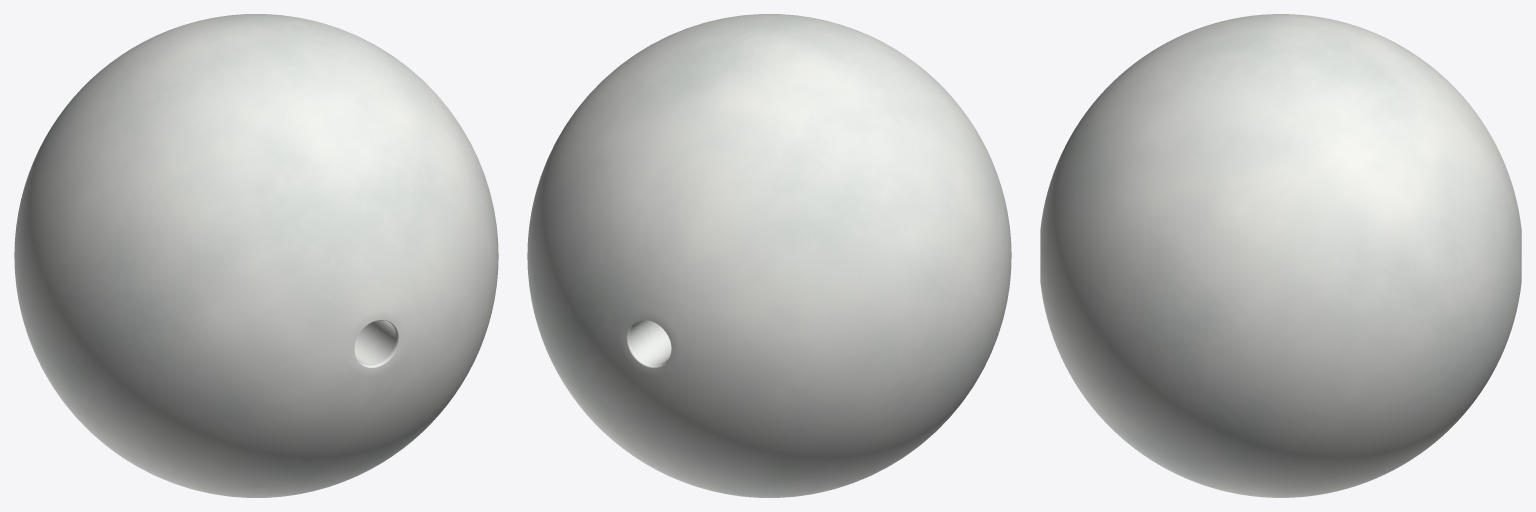
The model's file is milky-quartz-10mm.glb.
The picture shows the model from 3 angles, left to right: view 1: azimuth 30°, elevation 25°; view 2: azimuth 150°, elevation 25°; view 3: azimuth 270°, elevation 25°; orthographic projection.
Visible parts, largest first — view 1: milky-quartz.001; view 2: milky-quartz.001; view 3: milky-quartz.001.
Part boxes in pixels (x1,y1,x2,y2): milky-quartz.001: (14,14,498,497); milky-quartz.001: (527,14,1011,497); milky-quartz.001: (1040,14,1521,497).
Bounding box in the file's own units: 0.01 × 0.01 × 0.00994.
2 materials, 1 textured.
